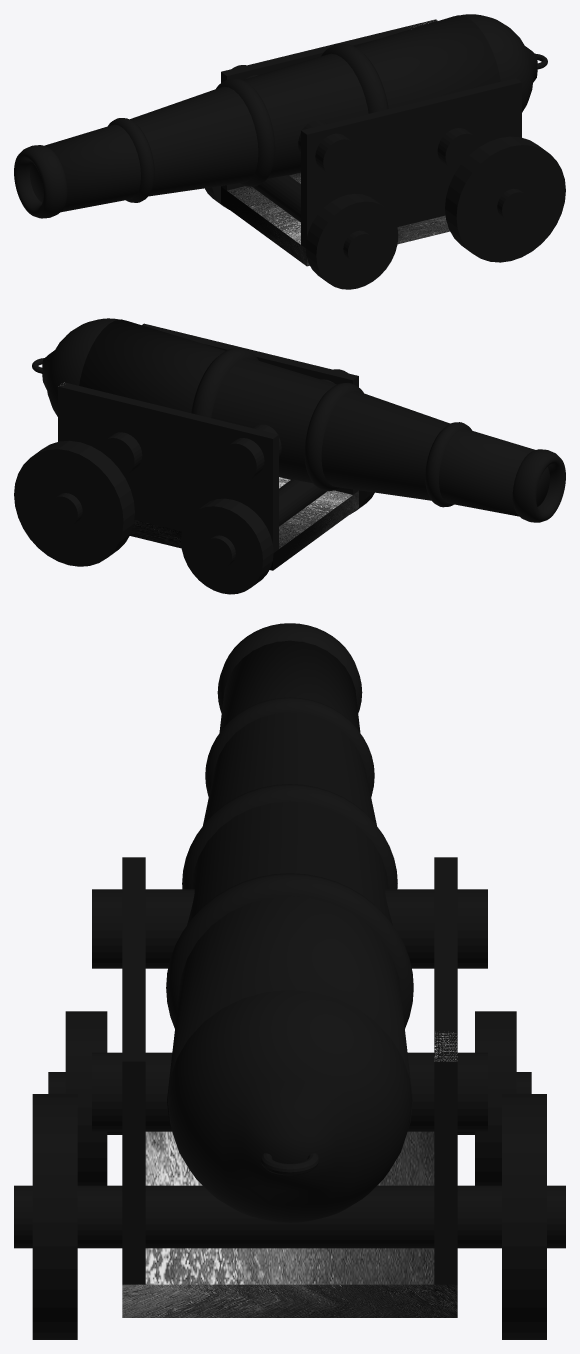
The model's file is cannon.fbx.
3 renders of one model, top to bottom at view 1: azimuth 30°, elevation 25°; view 2: azimuth 150°, elevation 25°; view 3: azimuth 270°, elevation 25°, orthographic. The views are drawn at different scales.
Parts seen in each view (by area): view 1: Cylinder; view 2: Cylinder; view 3: Cylinder.
Boxes of the visible parts, box(x1,y1,x2,y2) form: Cylinder: box(14, 14, 565, 289); Cylinder: box(14, 318, 565, 594); Cylinder: box(14, 623, 565, 1339).
Bounding box in the file's own units: 944 × 327 × 449.
Materials: 1 (1 with a texture image).
